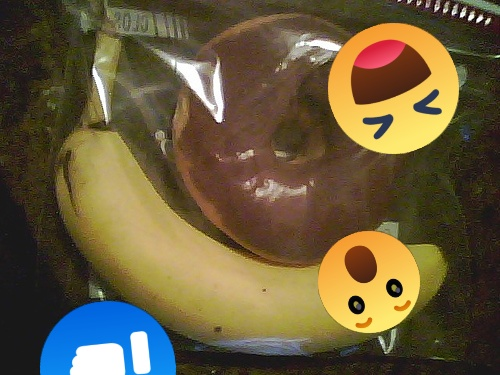haha: (328, 23, 459, 154)
like: (40, 301, 176, 375)
wow: (318, 231, 420, 333)
